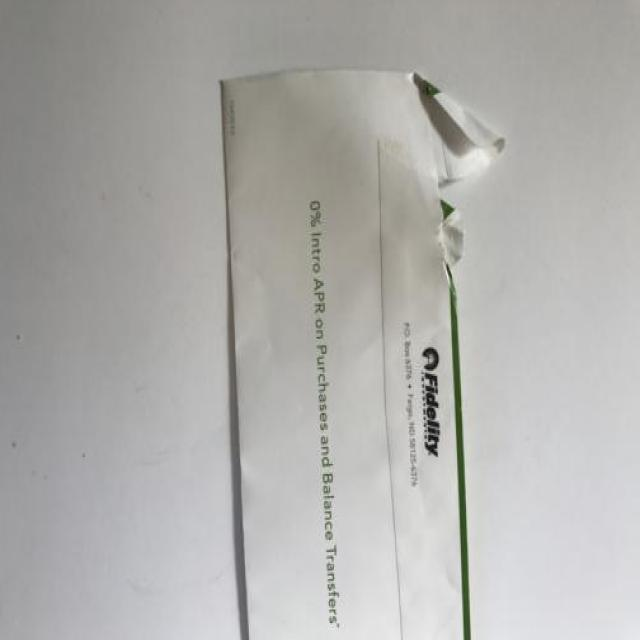kertas: (221, 67, 507, 640)
